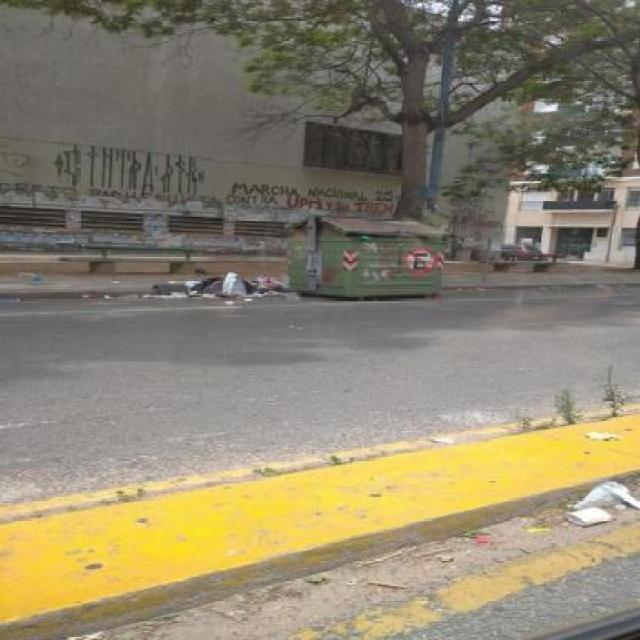garbage: (63, 256, 362, 329), (582, 471, 630, 554)
